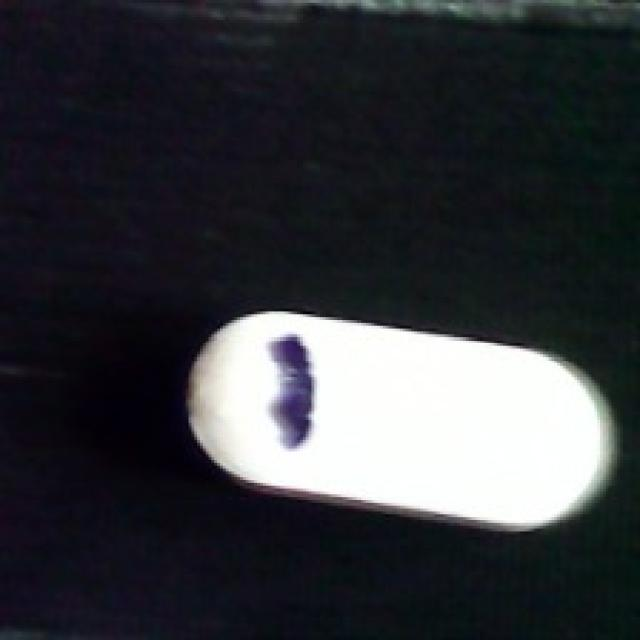defected: (171, 314, 626, 534)
